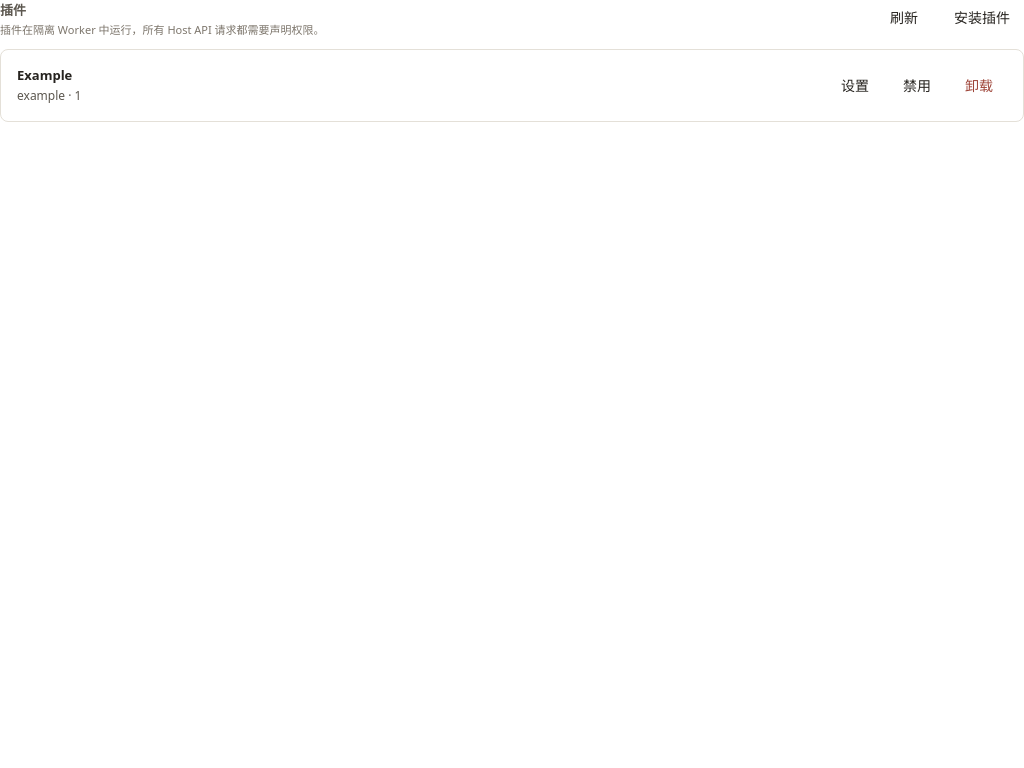
Scenario: plugin manager interactions › does not persist a missing required field
Expected: the text "Example" is shown, [17,66,72,84]
Click the button "设置": (855, 85) [827,68,883,102]
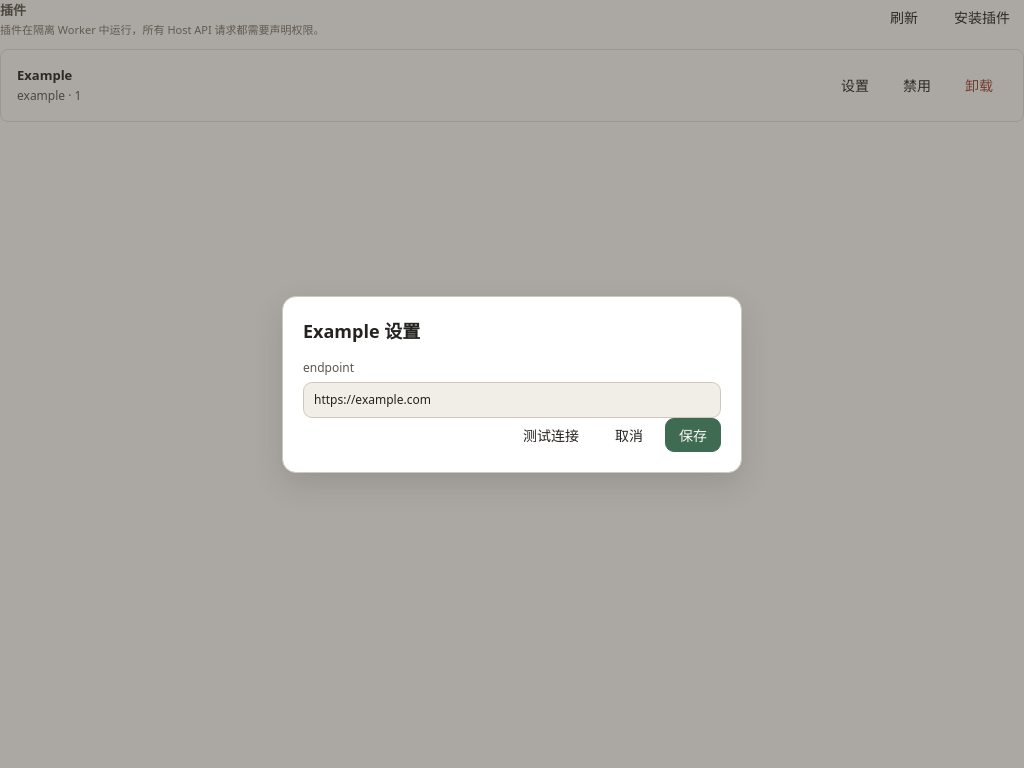
Clear the field showing "https://example.com": (512, 400) [303,382,721,418]
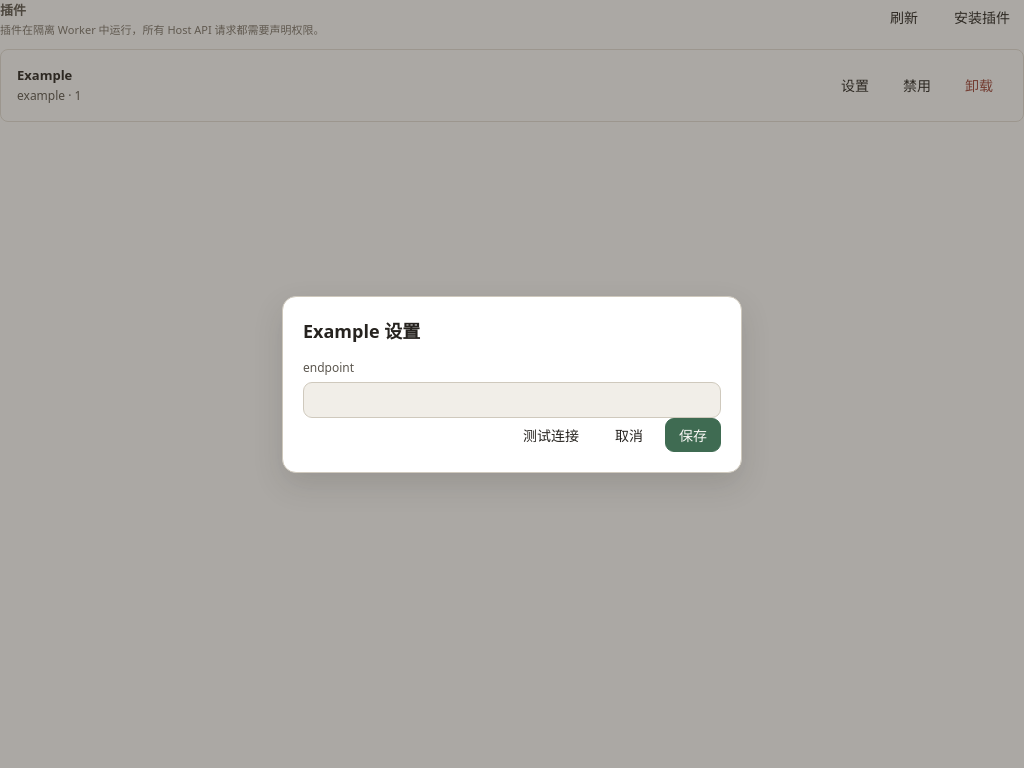
Click the button "保存": (693, 434) [665,418,721,452]
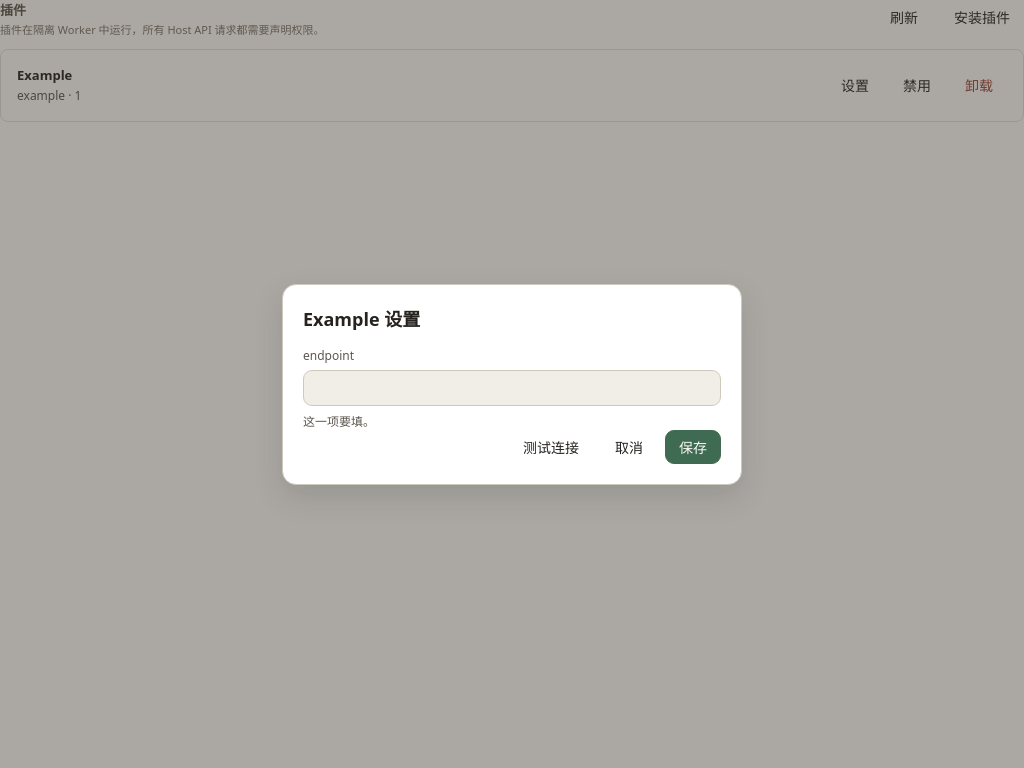
Expected: the message shows "要填", [303,412,375,430]
